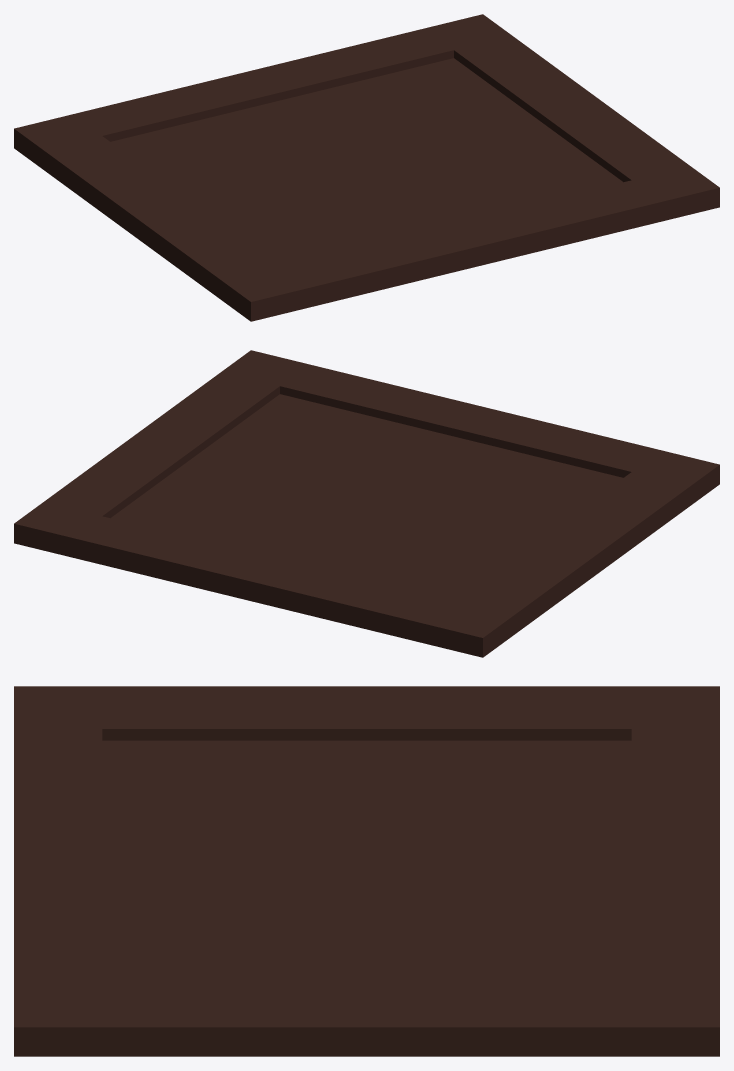
File: BrickWall-Stone-Roof-TopOnly.fbx
3 views of the same model, one above another, from view 1: azimuth 30°, elevation 25°; view 2: azimuth 150°, elevation 25°; view 3: azimuth 270°, elevation 25° (orthographic). The views are drawn at different scales.
Visible parts, largest first — view 1: Cube.012; view 2: Cube.012; view 3: Cube.012.
Part boxes in pixels (x1,y1,x2,y2): Cube.012: [14, 14, 719, 321]; Cube.012: [14, 350, 719, 657]; Cube.012: [14, 686, 719, 1056].
Size of the model in its own units: 910 by 36.57 by 797.
